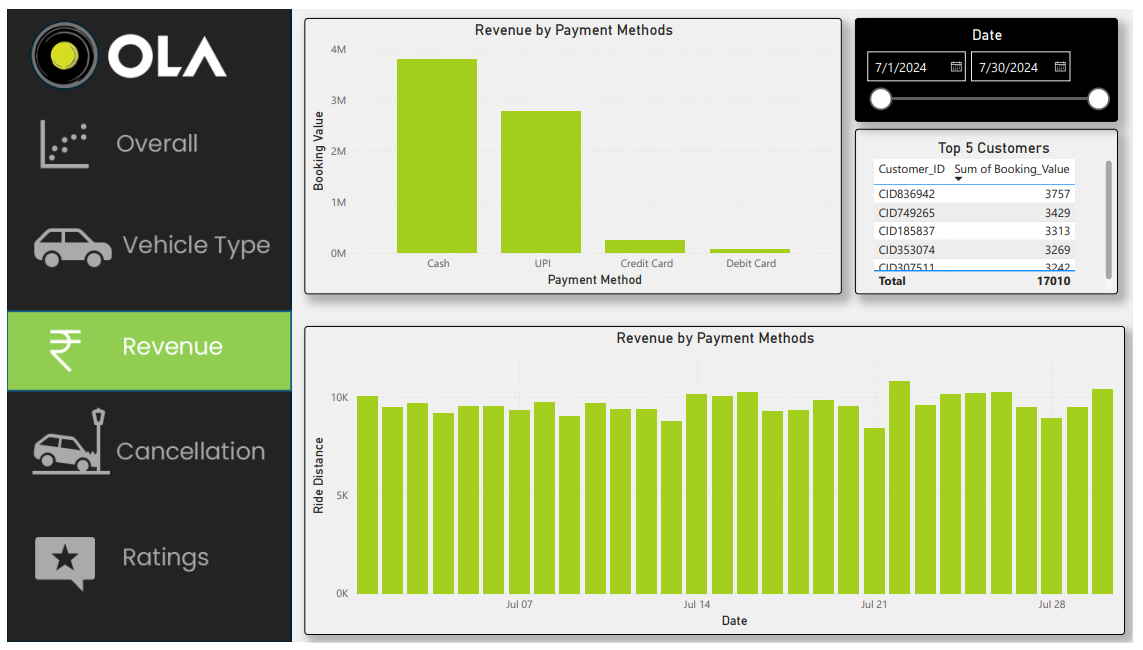

Layout of this report page (visuals, bound fields, positions):
{"tool":"powerbi","page":{"name":"Revenue","canvas":[1280,720],"ordinal":2},"visuals":[{"type":"actionButton","box":[0,220.8,324.5,92.9],"z":0},{"type":"actionButton","box":[0,445.2,324.5,92.9],"z":1000},{"type":"actionButton","box":[0,579.1,324.5,92.9],"z":2000},{"type":"actionButton","box":[0,107.4,324.5,92.9],"z":3000},{"type":"columnChart","title":"Revenue by Payment Methods","fields":{"Y":["Sum(July.Booking_Value)"],"Category":["July.Payment_Method"]},"box":[337.5,8.8,611.2,315],"z":4000},{"type":"columnChart","title":"Revenue by Payment Methods","fields":{"Y":["Sum(July.Ride_Distance)"],"Category":["July.Date"]},"box":[337.5,360,933.8,351.2],"z":5000},{"type":"slicer","title":"Date","fields":{"Values":["July.Date"]},"box":[963.8,8.8,298.8,118.8],"z":6000},{"type":"tableEx","title":"Top 5 Customers","fields":{"Values":["July.Customer_ID","Sum(July.Booking_Value)"]},"box":[963.8,136.2,298.8,187.5],"z":7000}]}

Visuals, with their boxes in screenshot pixels (x1, y1, x2, y2), scaled from the page's 1280x720 canvas onto the 1143x650 screenshot:
actionButton: <region>0, 199, 290, 283</region>
actionButton: <region>0, 402, 290, 486</region>
actionButton: <region>0, 523, 290, 607</region>
actionButton: <region>0, 97, 290, 181</region>
"Revenue by Payment Methods" columnChart: <region>301, 8, 847, 292</region>
"Revenue by Payment Methods" columnChart: <region>301, 325, 1135, 642</region>
"Date" slicer: <region>861, 8, 1127, 115</region>
"Top 5 Customers" tableEx: <region>861, 123, 1127, 292</region>
